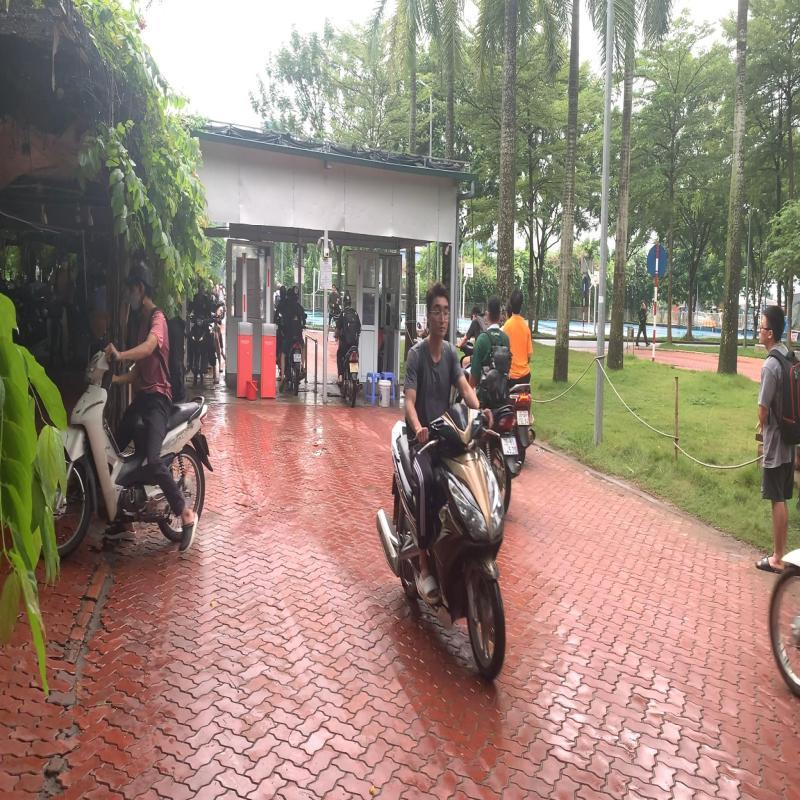nohelmet: (485, 294, 502, 328), (510, 287, 524, 314)
